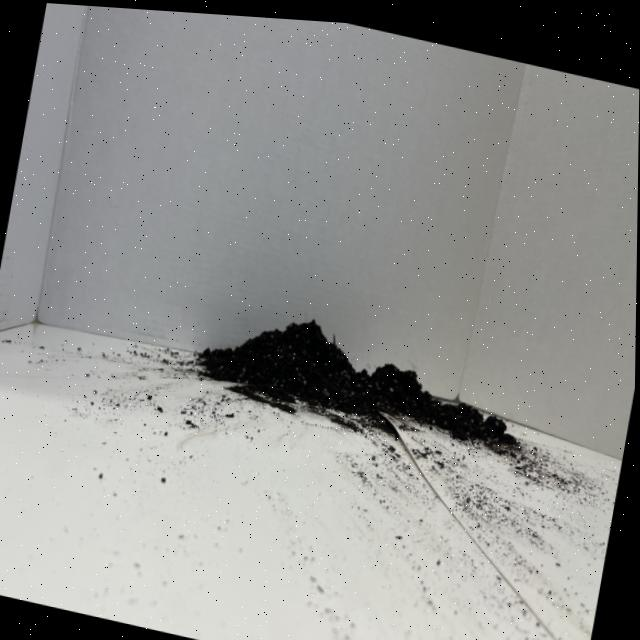soil: (189, 291, 529, 464)
